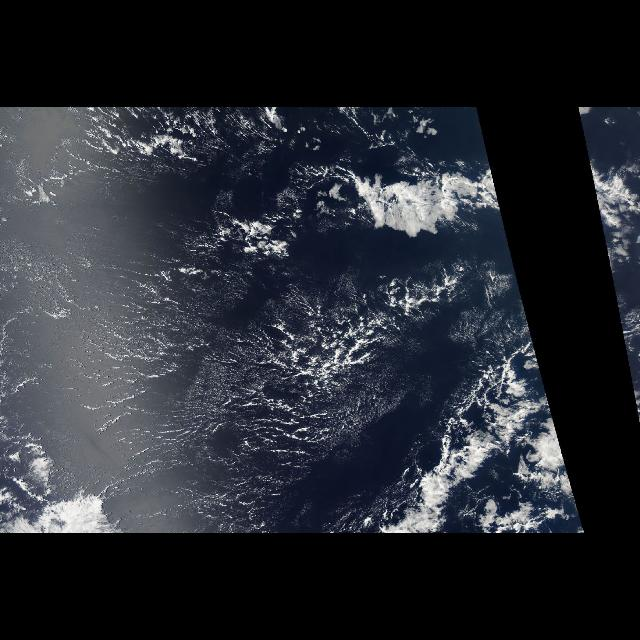Fish: (344, 342, 540, 534)
Flower: (325, 144, 521, 294), (444, 338, 584, 532), (583, 144, 639, 294), (623, 338, 639, 426)
Gravel: (131, 257, 533, 515)
Sugar: (4, 202, 292, 504)
